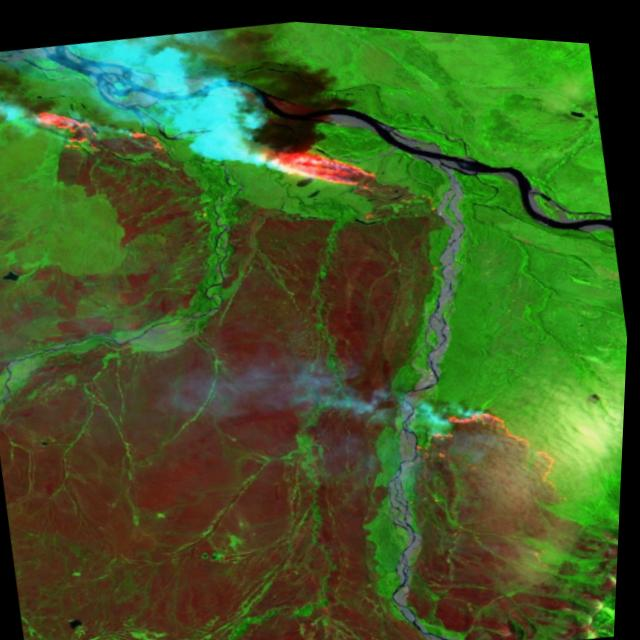fire: (406, 381, 581, 507), (245, 111, 400, 216), (27, 85, 177, 177)
